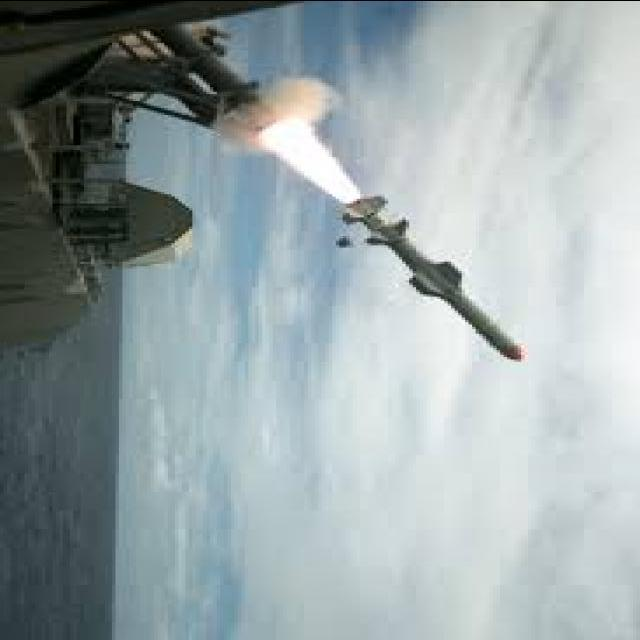Missile: (327, 187, 537, 374)
